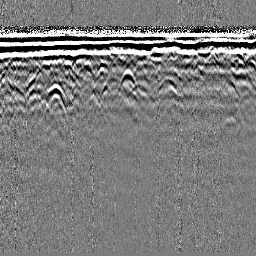cavity: (118, 69, 138, 91)
